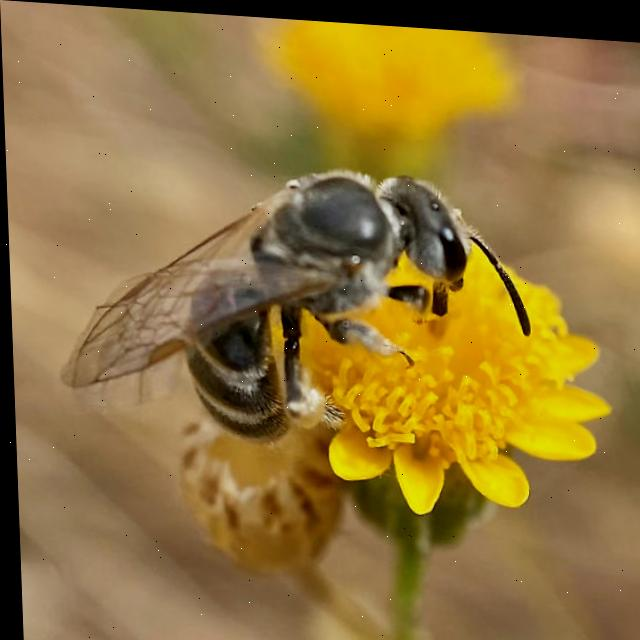Lasioglossum: (70, 137, 507, 457)
